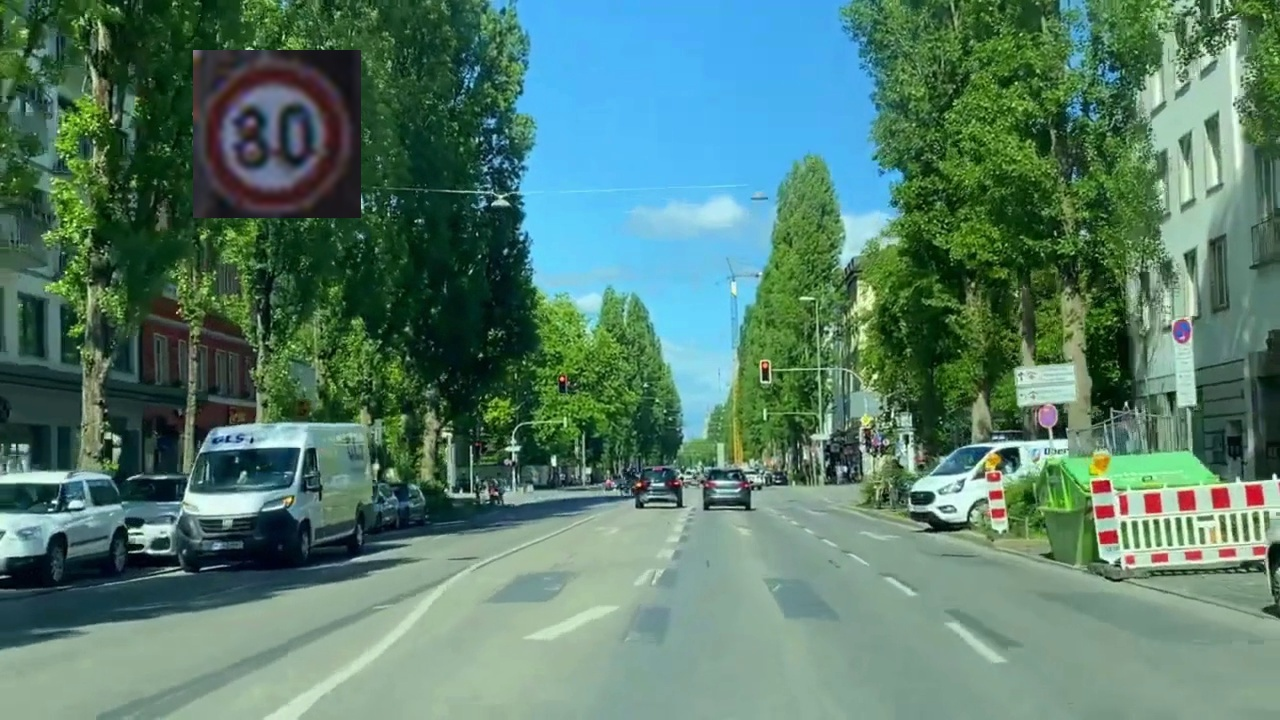Speed 80: (193, 50, 361, 218)
